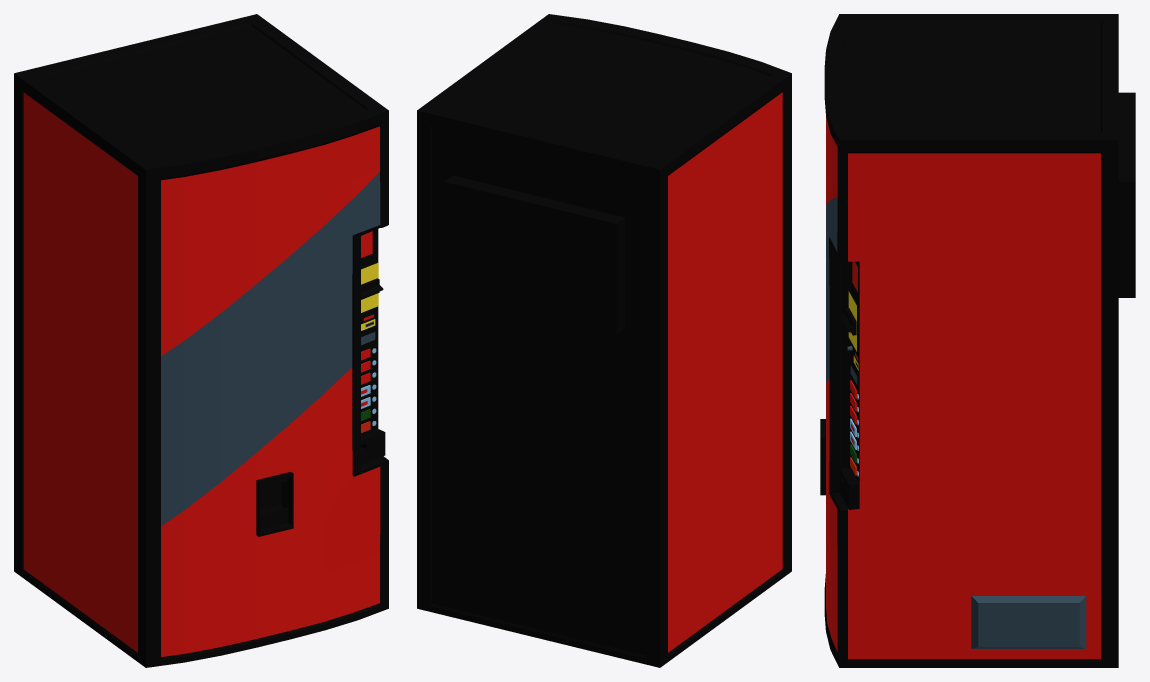
The model's file is vending.glb.
The picture shows the model from 3 angles, left to right: view 1: azimuth 30°, elevation 25°; view 2: azimuth 150°, elevation 25°; view 3: azimuth 270°, elevation 25°; orthographic projection. The views are drawn at different scales.
Parts seen in each view (by area): view 1: vending; view 2: vending; view 3: vending.
Part boxes in pixels (x1,y1,x2,y2): vending: (14, 14, 388, 667); vending: (417, 14, 791, 667); vending: (820, 14, 1135, 667).
Size of the model in its own units: 0.9598 by 1.85 by 1.
